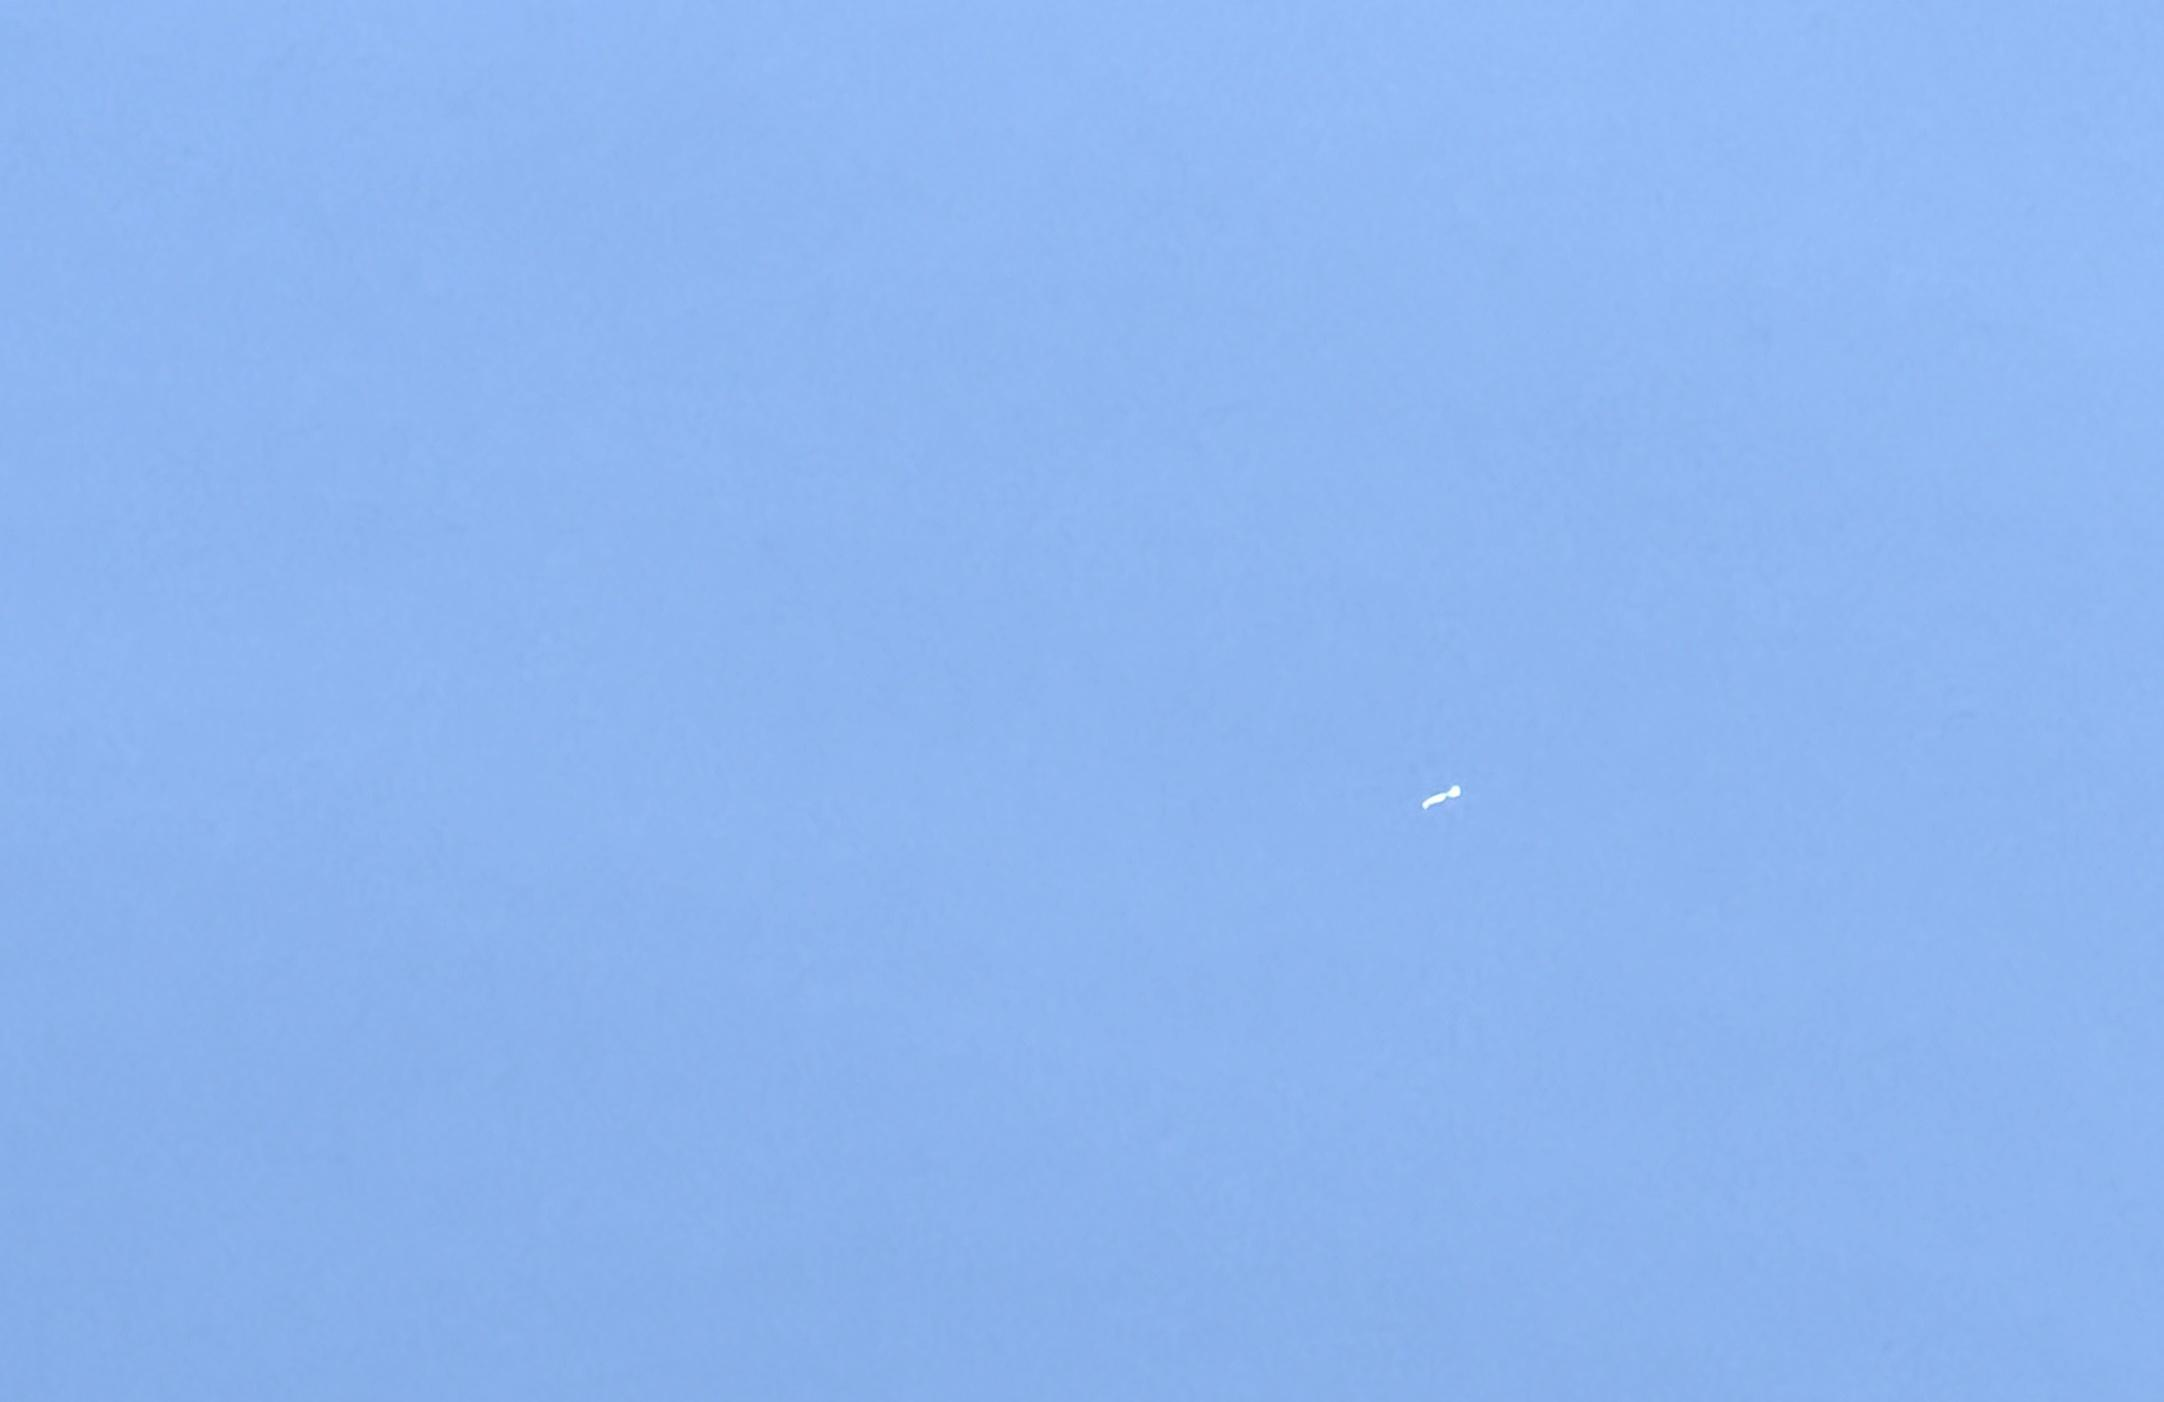Plane: (1361, 752, 1555, 848)
